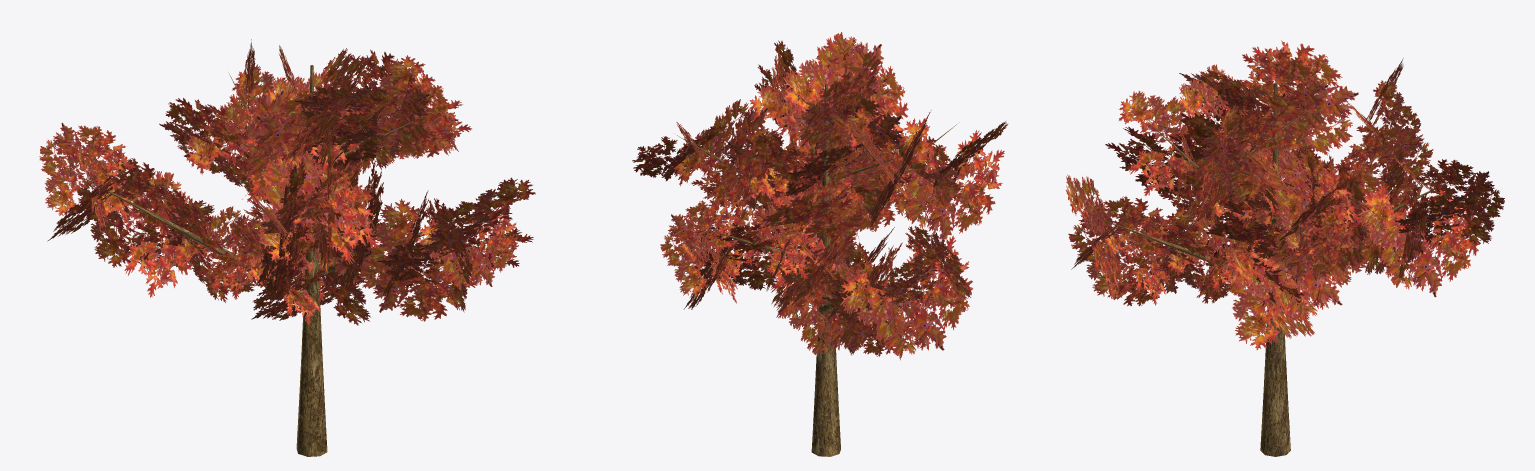
Rendered from Tree02.FBX.
3 renders of one model, left to right at view 1: azimuth 30°, elevation 25°; view 2: azimuth 150°, elevation 25°; view 3: azimuth 270°, elevation 25°, orthographic. The views are drawn at different scales.
Parts seen in each view (by area): view 1: Plane37, Plane19, Plane12, Plane52, Cylinder01, Plane23, Plane57, Plane09, Plane08, Plane53, Plane22, Plane56 (+28 smaller); view 2: Plane10, Plane39, Plane45, Plane64, Plane32, Plane26, Cylinder01, Plane28, Plane60, Plane51, Plane50, Plane43 (+33 smaller); view 3: Plane30, Plane21, Plane56, Plane40, Plane53, Plane47, Plane60, Plane45, Cylinder01, Plane32, Plane33, Plane09 (+31 smaller).
Boxes of the visible parts, x1,y1,x2,y2 form: Plane37: (258, 144, 379, 267); Plane19: (360, 199, 477, 321); Plane12: (39, 122, 135, 215); Plane52: (186, 86, 308, 198); Cylinder01: (296, 65, 327, 456); Plane23: (418, 177, 535, 275); Plane57: (362, 55, 471, 158); Plane09: (77, 158, 182, 267); Plane08: (97, 171, 195, 297); Plane53: (159, 98, 268, 198); Plane22: (419, 203, 517, 288); Plane56: (351, 49, 429, 169); Plane10: (840, 235, 972, 357); Plane39: (897, 118, 1004, 243); Plane45: (673, 99, 771, 218); Plane64: (783, 32, 908, 154); Plane32: (660, 200, 743, 296); Plane26: (743, 194, 854, 291); Cylinder01: (811, 83, 840, 456); Plane28: (715, 202, 811, 285); Plane60: (799, 68, 876, 156); Plane51: (834, 109, 918, 190); Plane50: (805, 88, 912, 215); Plane43: (721, 133, 815, 220); Plane30: (1358, 183, 1482, 297); Plane21: (1068, 196, 1179, 299); Plane56: (1195, 108, 1295, 203); Plane40: (1118, 90, 1210, 195); Plane53: (1245, 40, 1358, 178); Plane47: (1273, 189, 1360, 282); Plane60: (1238, 48, 1328, 153); Plane45: (1267, 144, 1362, 261); Cylinder01: (1260, 82, 1290, 456); Plane32: (1415, 159, 1504, 244); Plane33: (1227, 215, 1345, 321); Plane09: (1334, 124, 1433, 210).
Bounding box in the file's own units: 468 × 467 × 487.
2 materials, 2 textured.
